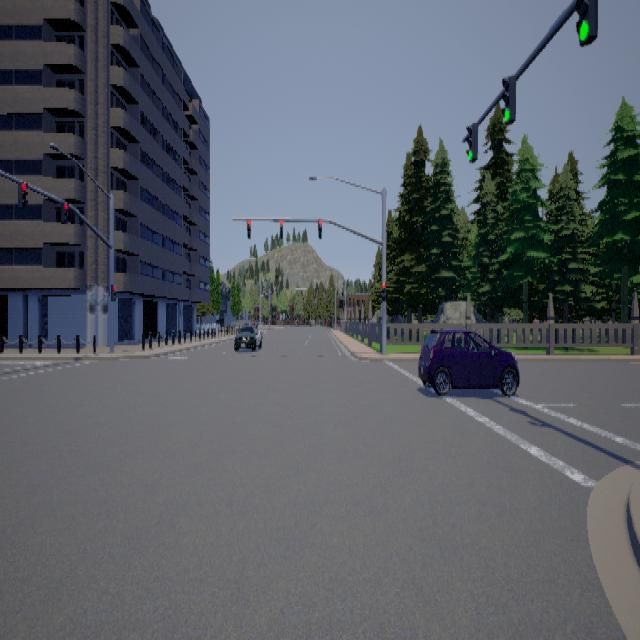green_light: (575, 0, 597, 45), (500, 74, 515, 123), (465, 121, 477, 162)
red_light: (17, 180, 27, 207), (60, 200, 68, 222), (110, 283, 116, 300), (318, 218, 322, 238), (247, 218, 251, 238), (381, 281, 385, 300), (280, 218, 282, 238)
vehicle: (417, 327, 519, 396), (233, 322, 262, 350)
